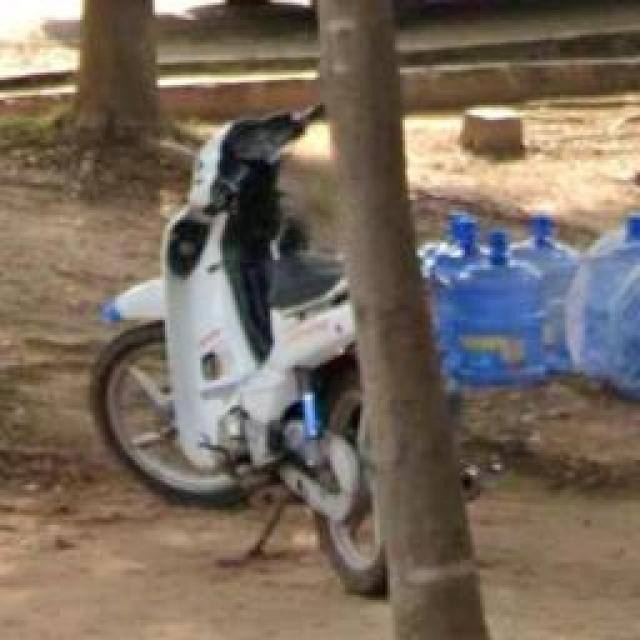Motor: (88, 102, 385, 598)
